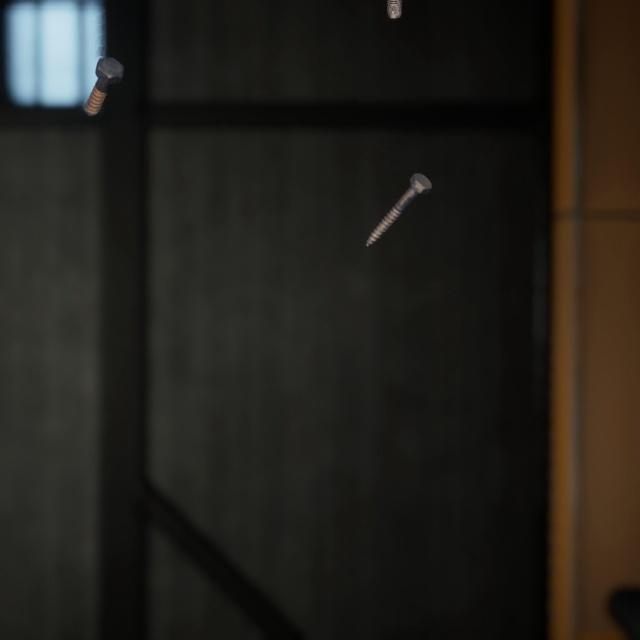bolt: (361, 154, 436, 236), (80, 41, 128, 109)
